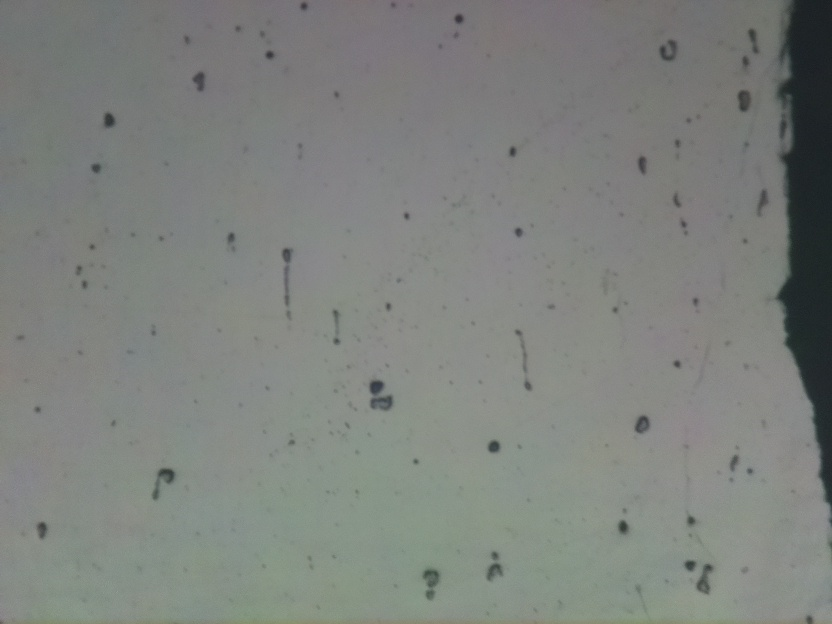crack: (785, 0, 832, 520)
